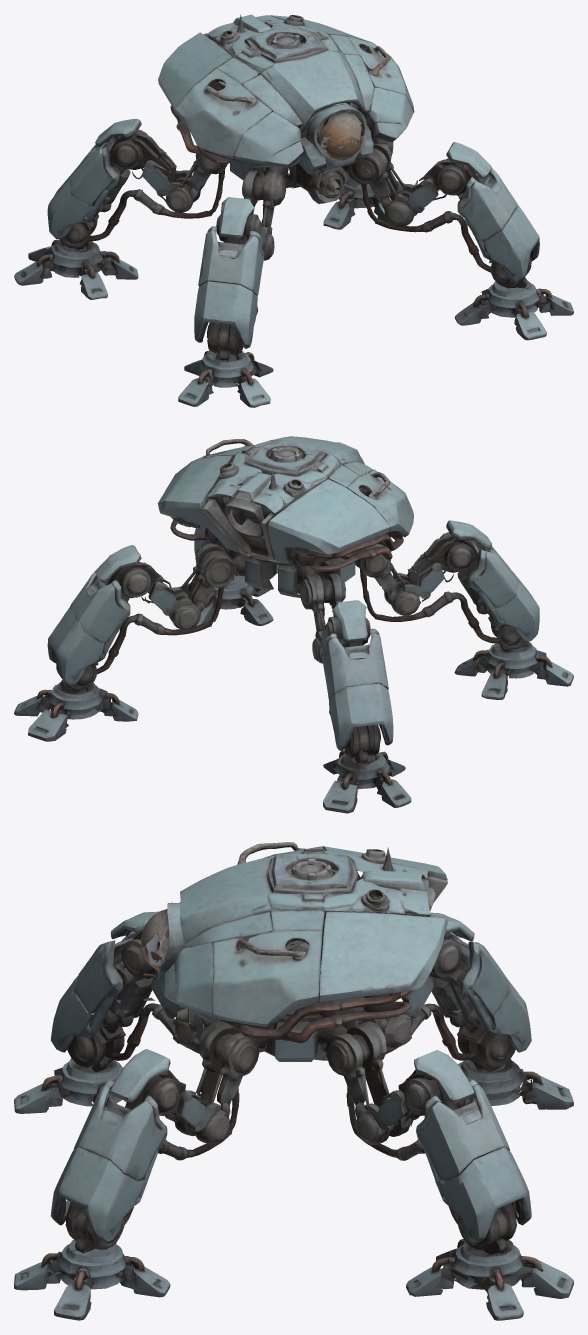
The model's file is mecha_01.glb.
3 renders of one model, top to bottom at view 1: azimuth 30°, elevation 25°; view 2: azimuth 150°, elevation 25°; view 3: azimuth 270°, elevation 25°, orthographic. The views are drawn at different scales.
Parts seen in each view (by area): view 1: part_000_DORSAL_MODULE, part_003_DORSAL_MODULE, part_004_FRONT_SHIN_R, part_012_FRONT_SHIN_L, part_002_FRONT_SHIN_L, part_005_REAR_SHIN_L, part_011_REAR_SHIN_L, part_010_FRONT_PAW_R, part_008_FRONT_THIGH_R, part_007_REAR_THIGH_L, part_009_FRONT_THIGH_R, part_020_DORSAL_MODULE (+9 smaller); view 2: part_000_DORSAL_MODULE, part_001_REAR_SHIN_R, part_002_FRONT_SHIN_L, part_003_DORSAL_MODULE, part_011_REAR_SHIN_L, part_012_FRONT_SHIN_L, part_005_REAR_SHIN_L, part_007_REAR_THIGH_L, part_018_REAR_THIGH_R, part_010_FRONT_PAW_R, part_025_REAR_PAW_R, part_013_REAR_PAW_L (+15 smaller); view 3: part_003_DORSAL_MODULE, part_001_REAR_SHIN_R, part_000_DORSAL_MODULE, part_004_FRONT_SHIN_R, part_020_DORSAL_MODULE, part_002_FRONT_SHIN_L, part_005_REAR_SHIN_L, part_008_FRONT_THIGH_R, part_012_FRONT_SHIN_L, part_011_REAR_SHIN_L, part_010_FRONT_PAW_R, part_009_FRONT_THIGH_R (+17 smaller).
Boxes of the visible parts, bbox=[...] form: part_000_DORSAL_MODULE: bbox=[158, 15, 387, 182]; part_003_DORSAL_MODULE: bbox=[203, 14, 413, 167]; part_004_FRONT_SHIN_R: bbox=[448, 168, 539, 292]; part_012_FRONT_SHIN_L: bbox=[194, 226, 264, 348]; part_002_FRONT_SHIN_L: bbox=[199, 170, 274, 387]; part_005_REAR_SHIN_L: bbox=[59, 118, 224, 248]; part_011_REAR_SHIN_L: bbox=[47, 136, 120, 239]; part_010_FRONT_PAW_R: bbox=[454, 281, 573, 340]; part_008_FRONT_THIGH_R: bbox=[341, 144, 451, 232]; part_007_REAR_THIGH_L: bbox=[132, 148, 227, 212]; part_009_FRONT_THIGH_R: bbox=[391, 158, 480, 214]; part_020_DORSAL_MODULE: bbox=[329, 34, 414, 112]; part_000_DORSAL_MODULE: bbox=[157, 442, 413, 571]; part_001_REAR_SHIN_R: bbox=[47, 545, 224, 693]; part_002_FRONT_SHIN_L: bbox=[355, 520, 538, 678]; part_003_DORSAL_MODULE: bbox=[161, 436, 405, 560]; part_011_REAR_SHIN_L: bbox=[322, 628, 393, 751]; part_012_FRONT_SHIN_L: bbox=[467, 538, 539, 641]; part_005_REAR_SHIN_L: bbox=[322, 600, 380, 757]; part_007_REAR_THIGH_L: bbox=[297, 566, 364, 663]; part_018_REAR_THIGH_R: bbox=[171, 551, 236, 629]; part_010_FRONT_PAW_R: bbox=[180, 575, 273, 625]; part_025_REAR_PAW_R: bbox=[49, 682, 102, 719]; part_013_REAR_PAW_L: bbox=[323, 750, 411, 807]; part_003_DORSAL_MODULE: bbox=[164, 847, 448, 1029]; part_001_REAR_SHIN_R: bbox=[346, 1050, 531, 1254]; part_000_DORSAL_MODULE: bbox=[141, 842, 447, 1014]; part_004_FRONT_SHIN_R: bbox=[50, 1080, 167, 1256]; part_020_DORSAL_MODULE: bbox=[212, 910, 324, 1026]; part_002_FRONT_SHIN_L: bbox=[41, 911, 199, 1106]; part_005_REAR_SHIN_L: bbox=[385, 912, 515, 1067]; part_008_FRONT_THIGH_R: bbox=[160, 1021, 274, 1160]; part_012_FRONT_SHIN_L: bbox=[51, 931, 152, 1052]; part_011_REAR_SHIN_L: bbox=[431, 932, 531, 1052]; part_010_FRONT_PAW_R: bbox=[14, 1240, 128, 1320]; part_009_FRONT_THIGH_R: bbox=[125, 1070, 230, 1143].
Size of the model in its own units: 0.9987 by 0.6264 by 0.94.
Materials: 45 (45 with a texture image).
